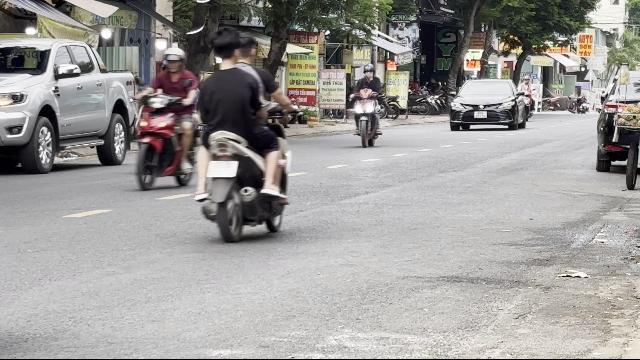helmet: (162, 47, 186, 73)
licenseplate: (208, 160, 236, 178)
motorcyclist: (191, 28, 295, 242), (131, 46, 201, 190)
nohelmet: (209, 26, 243, 68), (235, 33, 259, 63)
